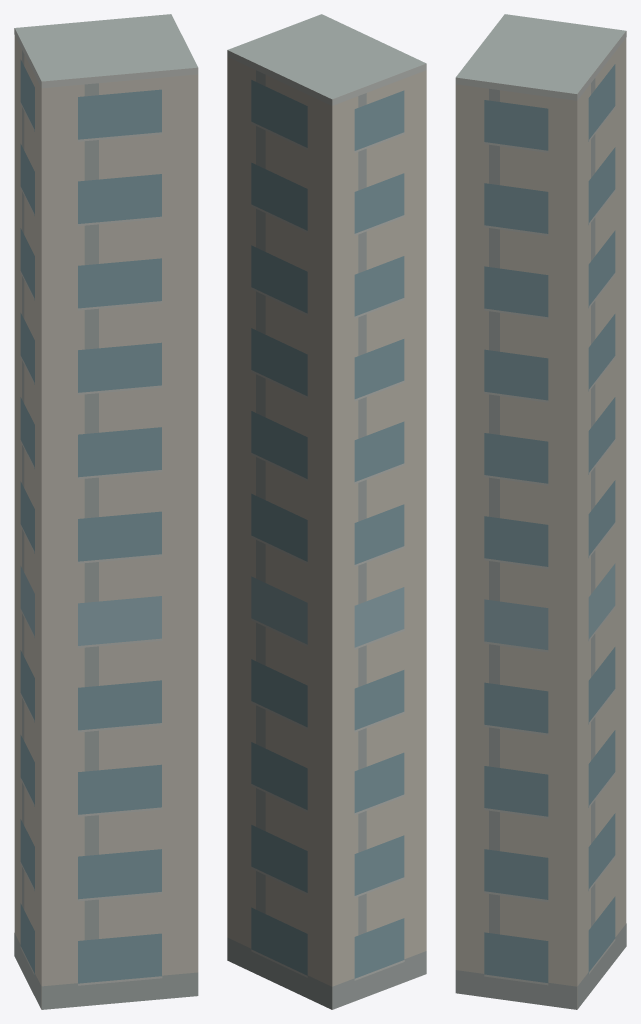
The model's file is survey-upis-32876095.glb.
The picture shows the model from 3 angles, left to right: view 1: azimuth 30°, elevation 25°; view 2: azimuth 150°, elevation 25°; view 3: azimuth 270°, elevation 25°; orthographic projection.
Visible parts, largest first — view 1: survey-upis-32876095.tmp; view 2: survey-upis-32876095.tmp; view 3: survey-upis-32876095.tmp.
Boxes of the visible parts, x1,y1,x2,y2 form: survey-upis-32876095.tmp: (14, 14, 198, 1009); survey-upis-32876095.tmp: (227, 14, 426, 1009); survey-upis-32876095.tmp: (455, 14, 626, 1009).
Bounding box in the file's own units: 6.31 × 33.55 × 5.68.
